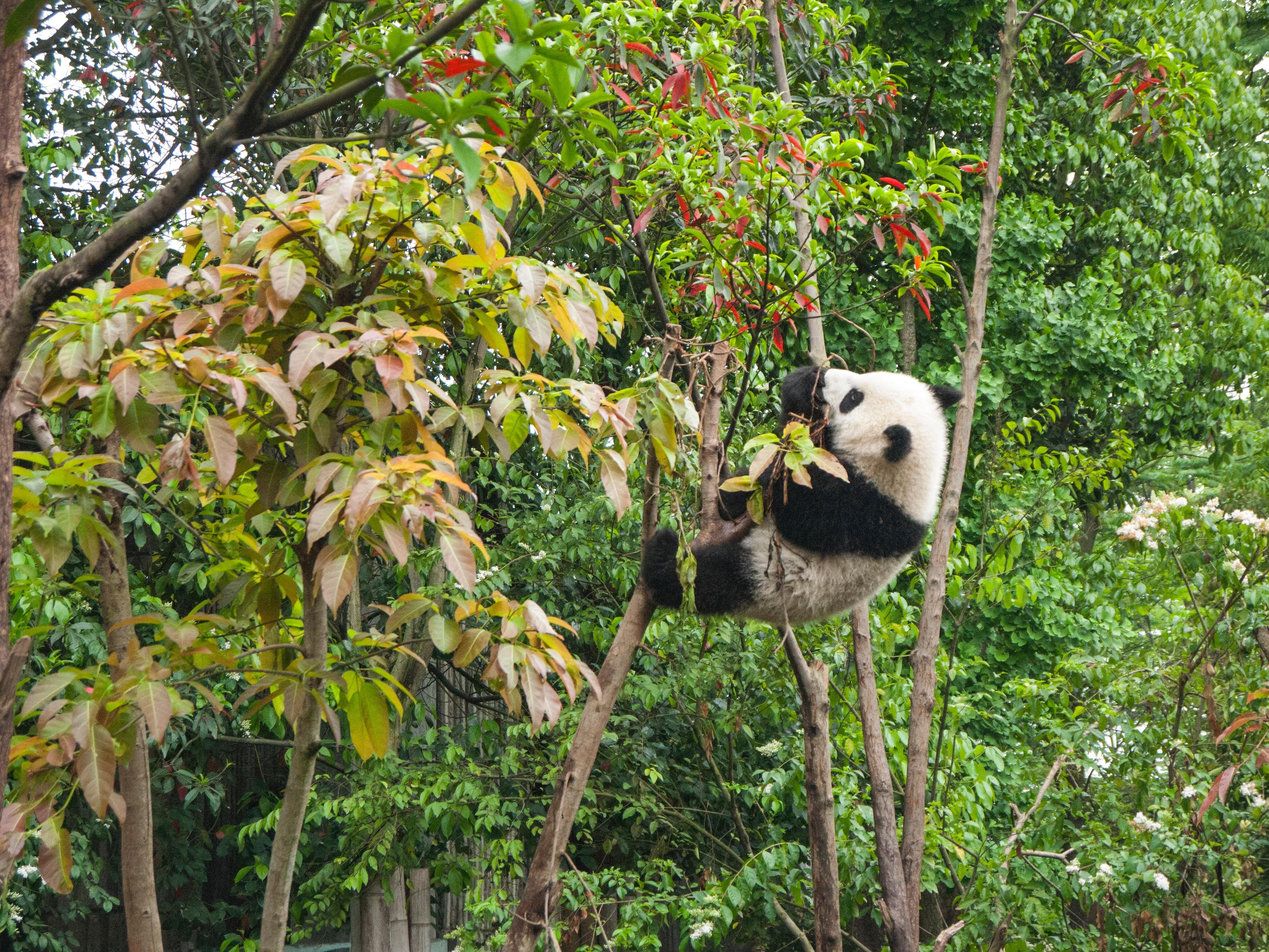panda: (633, 364, 965, 641)
